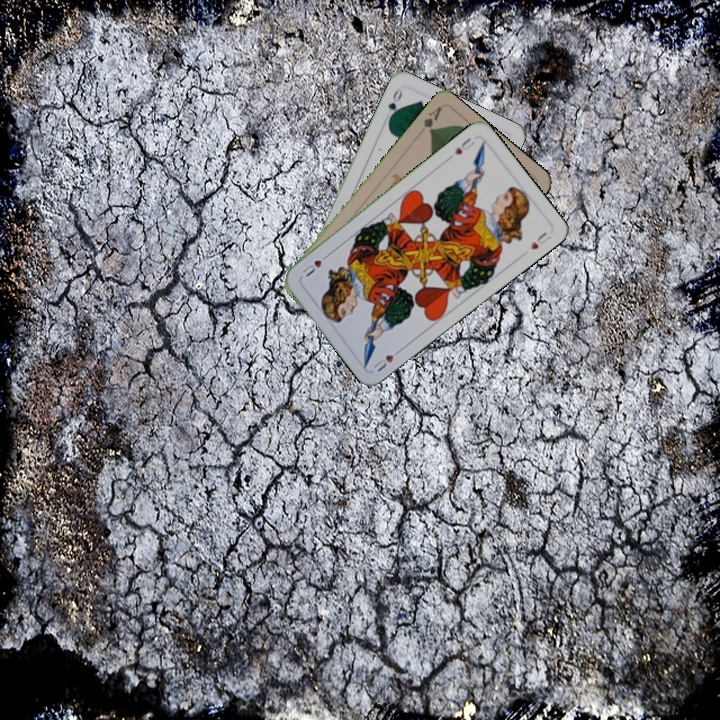GA: (414, 102, 444, 138)
GO: (384, 85, 405, 124)
HU: (369, 344, 405, 374), (450, 133, 477, 158)
